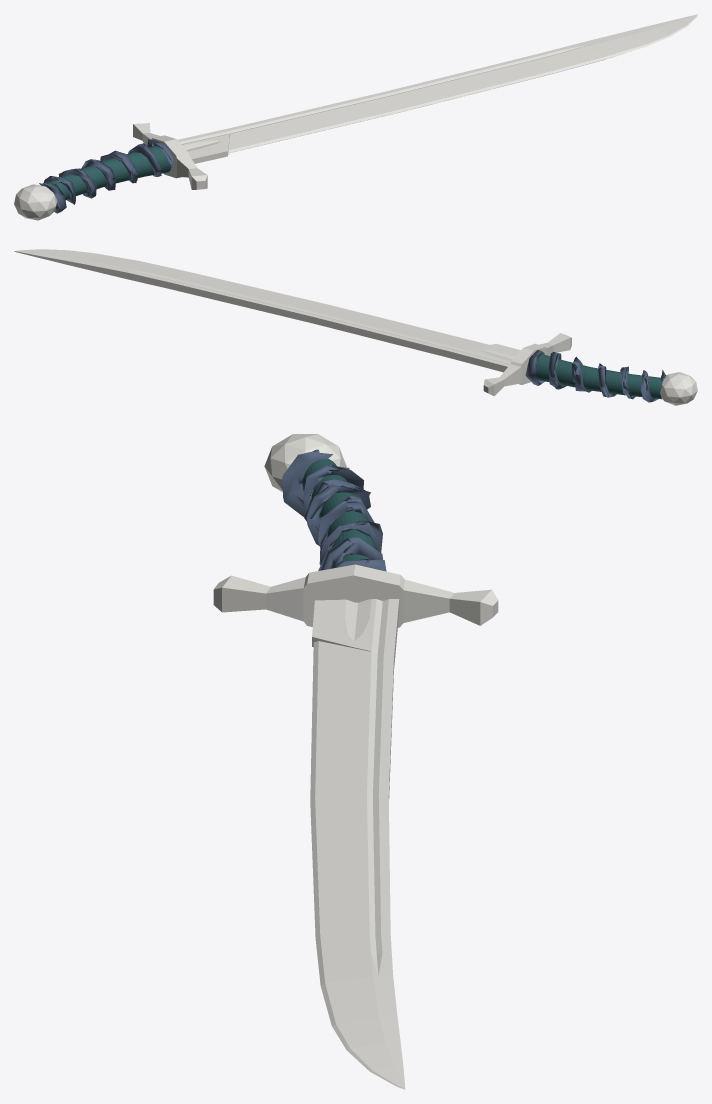
File: sword.fbx
3 renders of one model, top to bottom at view 1: azimuth 30°, elevation 25°; view 2: azimuth 150°, elevation 25°; view 3: azimuth 270°, elevation 25°, orthographic. The views are drawn at different scales.
Visible parts, largest first — view 1: blade, leather wrap, handle, cross guard, back cap; view 2: blade, handle, leather wrap, cross guard, back cap; view 3: blade, cross guard, leather wrap, back cap, handle.
Boxes of the visible parts, x1,y1,x2,y2 form: blade: [177, 14, 697, 163]; leather wrap: [39, 139, 174, 213]; handle: [47, 146, 171, 199]; cross guard: [133, 123, 207, 189]; back cap: [14, 184, 57, 220]; blade: [14, 249, 520, 372]; handle: [535, 354, 663, 399]; leather wrap: [525, 350, 666, 402]; cross guard: [483, 333, 571, 396]; back cap: [660, 372, 697, 405]; blade: [310, 599, 405, 1089]; cross guard: [213, 564, 498, 627]; leather wrap: [282, 449, 386, 571]; back cap: [264, 434, 346, 492]; handle: [302, 459, 375, 568].
Size of the model in its own units: 559 by 27.75 by 105.
